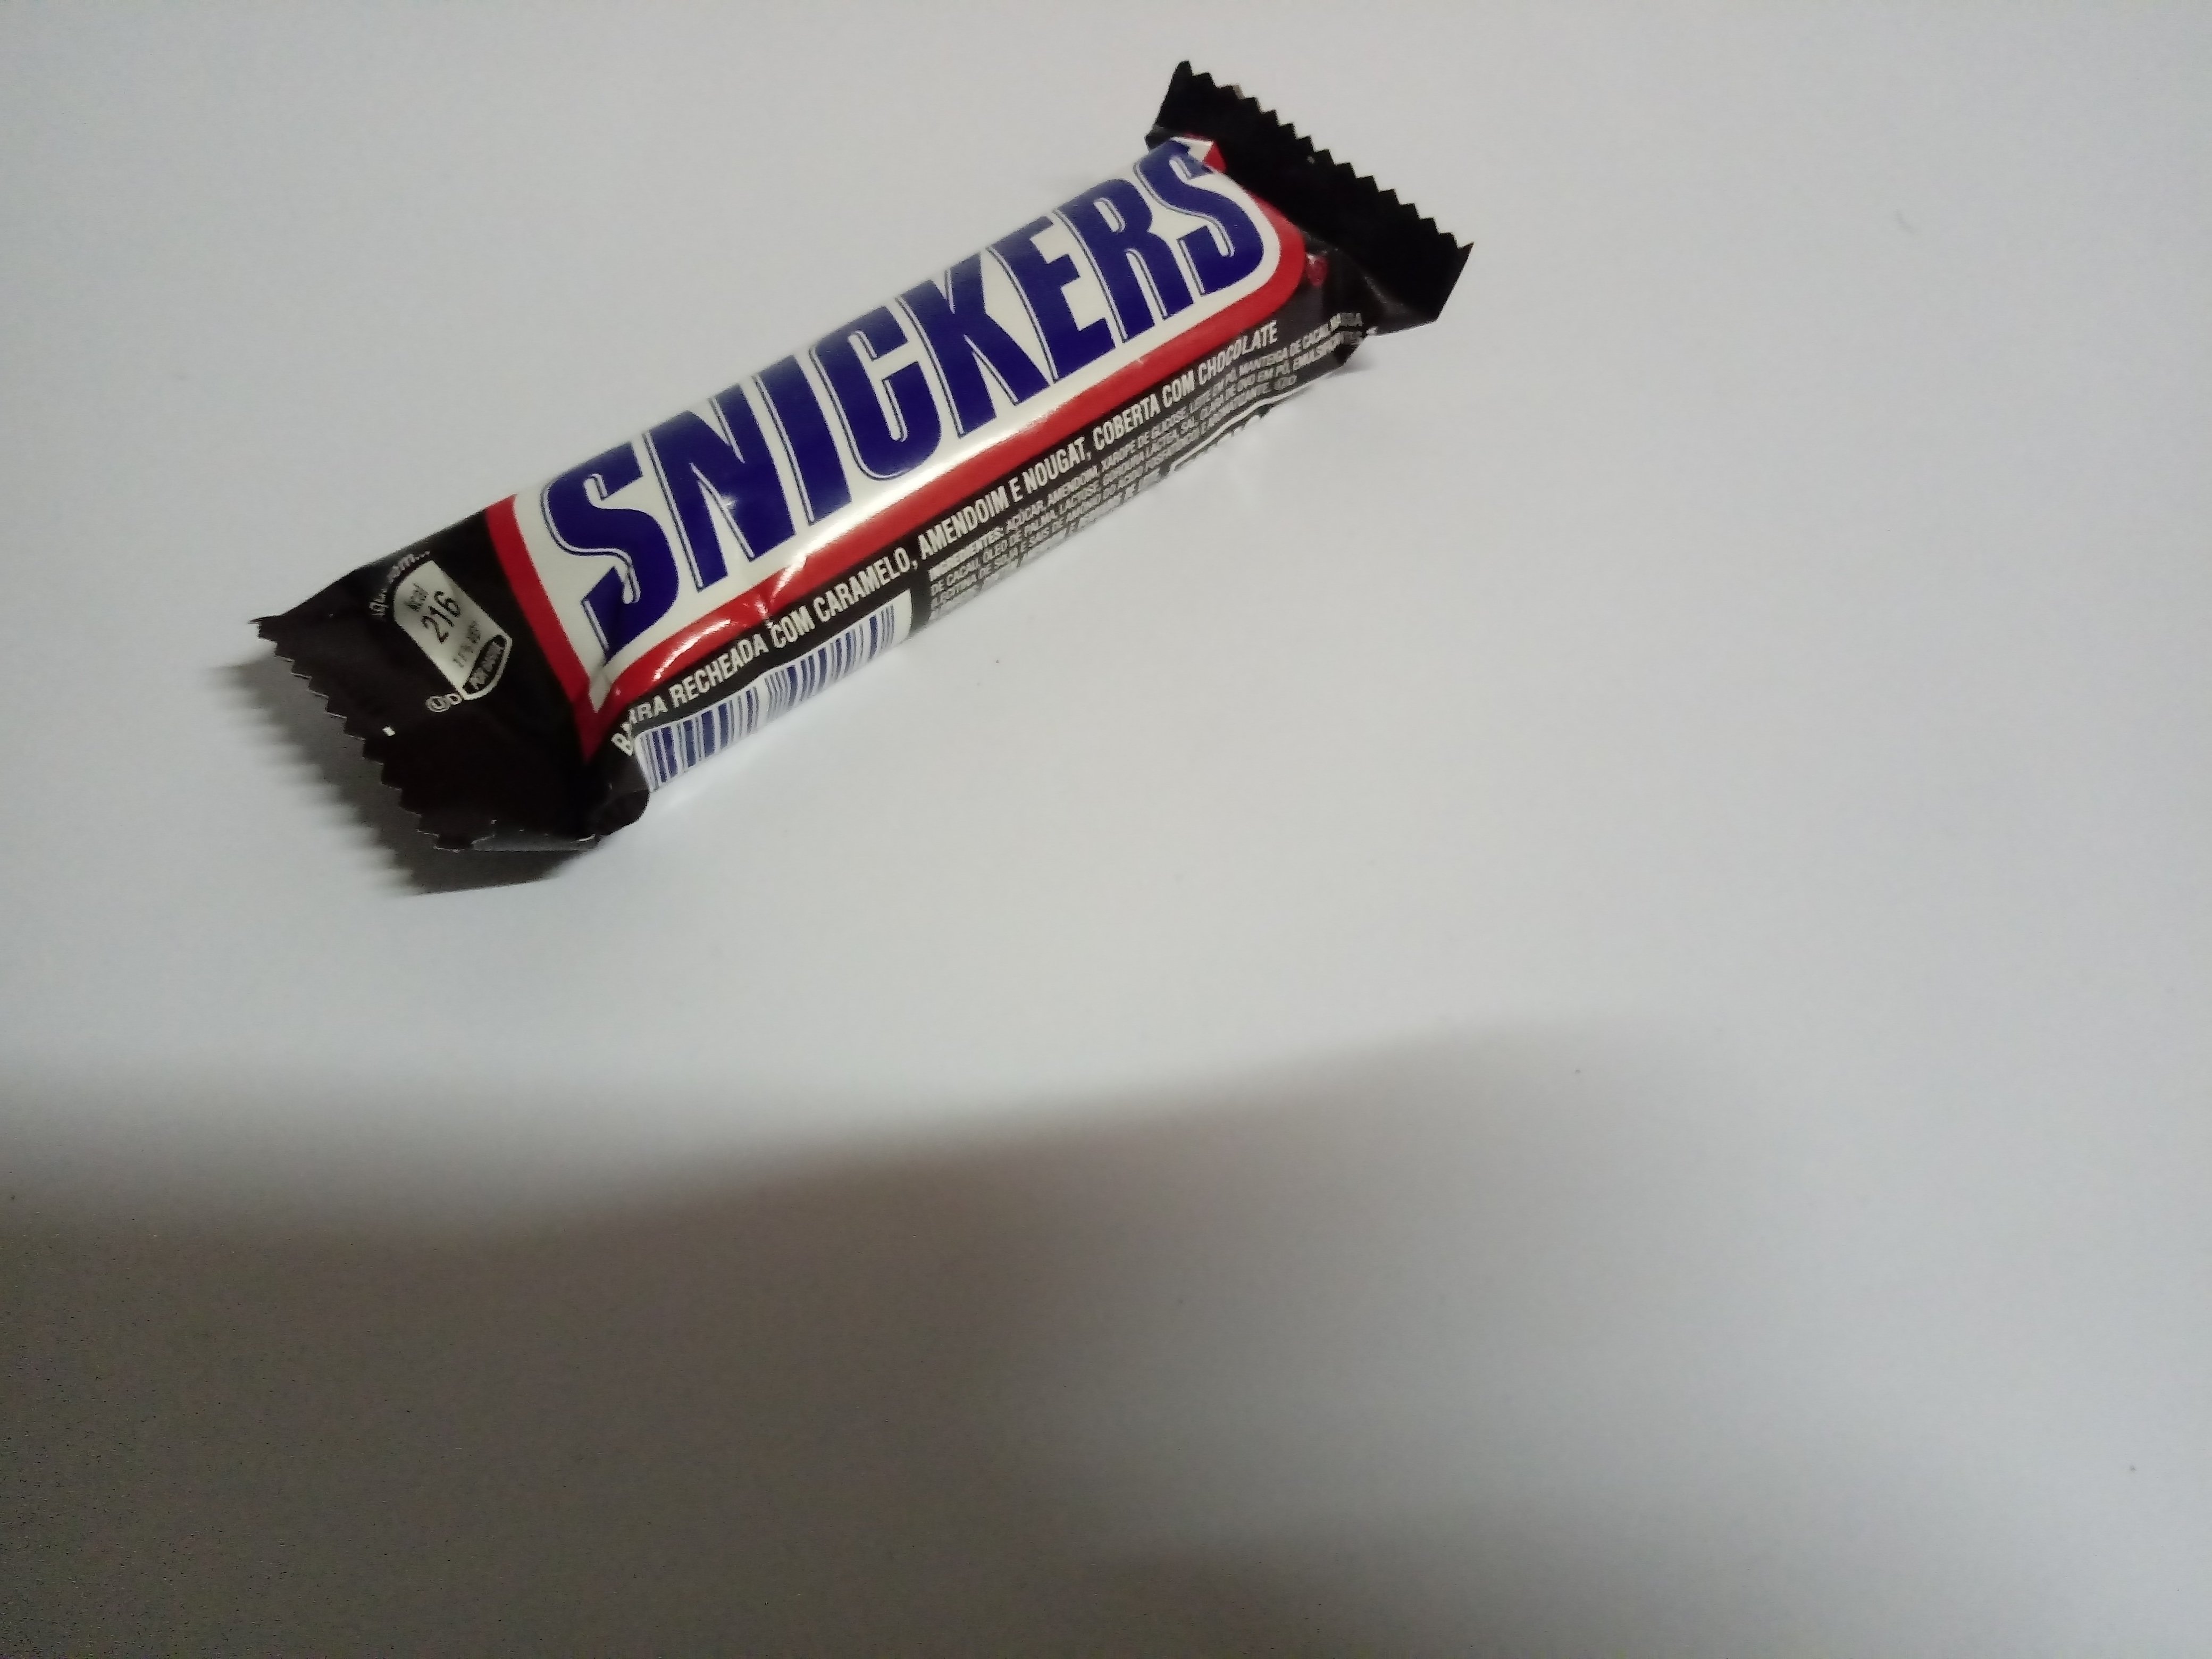snickers: (225, 44, 1482, 889)
